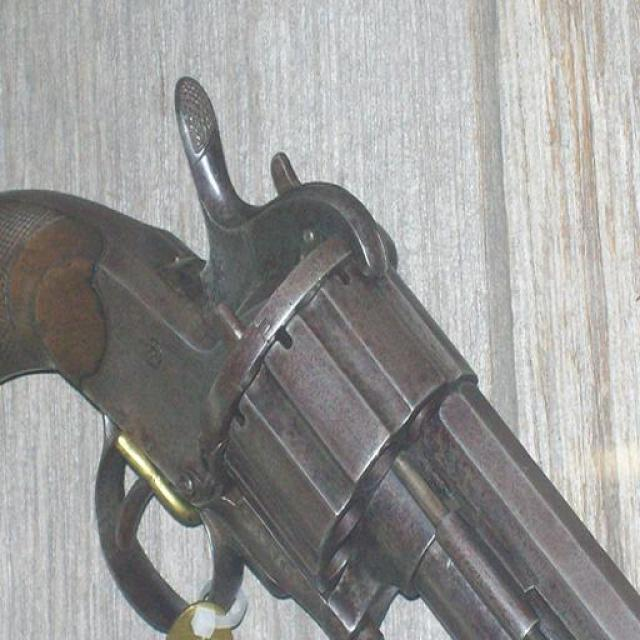pistol: (1, 80, 640, 640)
